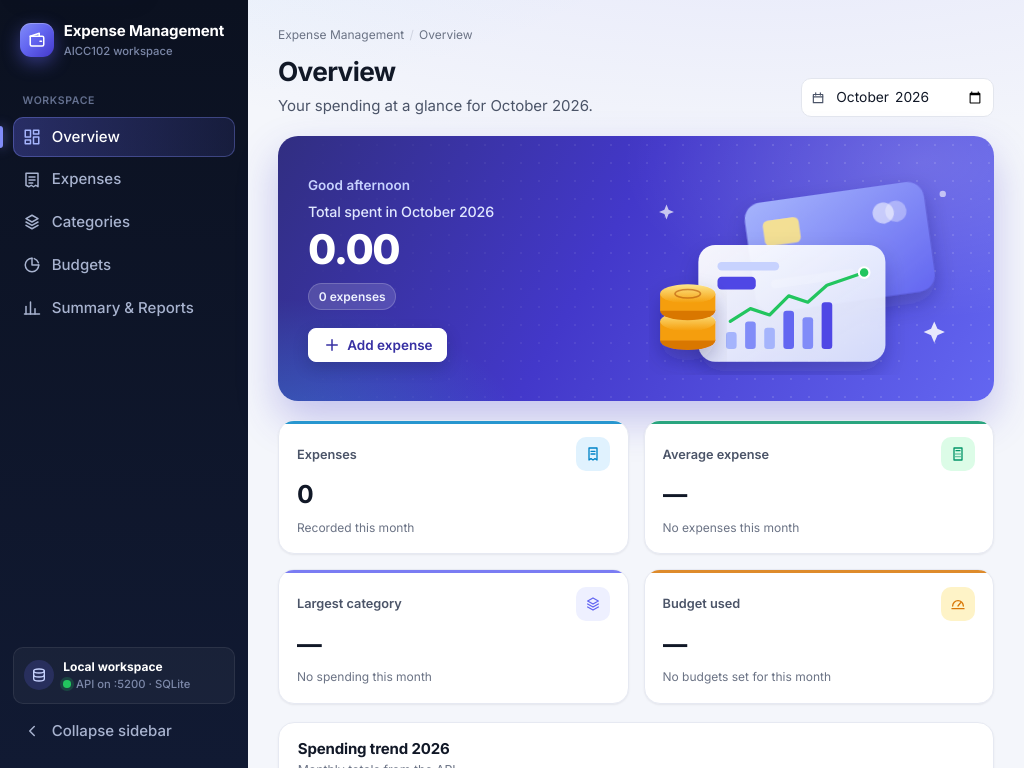
Test case: App › Overview "Add expense" → opens the Expenses page with the form drawer
The image size is (1024, 768).
What coordinates should you click on to do the following:
click the button "Add expense"
I would click on:
 (378, 345)
Its box is [308, 328, 447, 362].
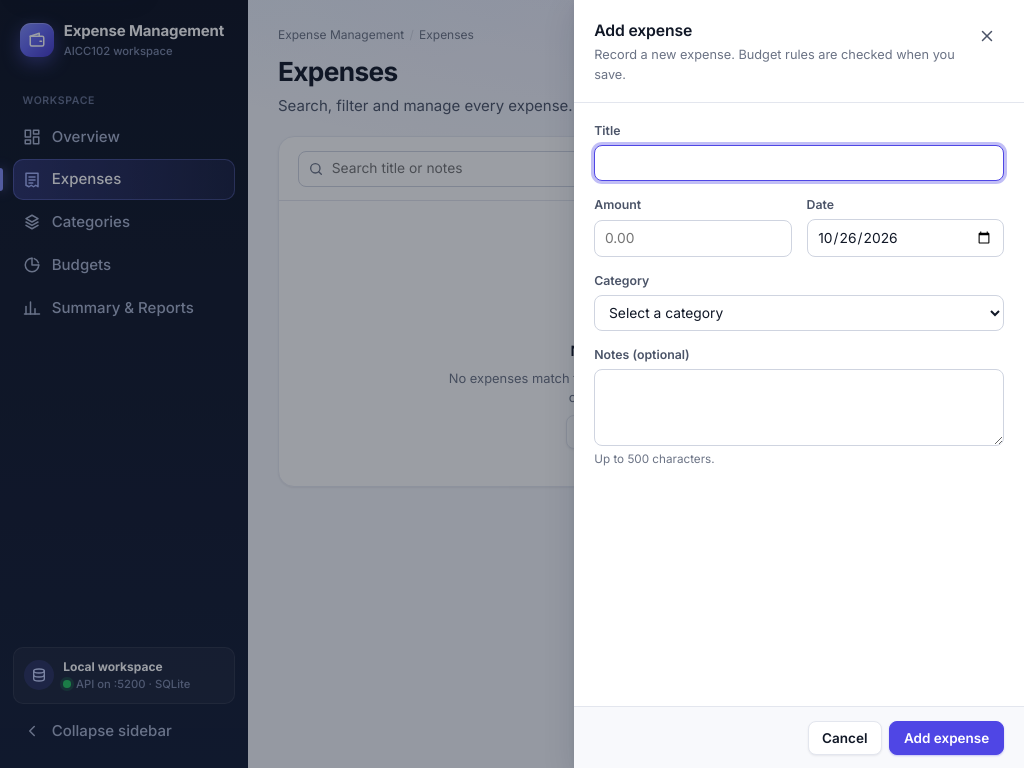
Now the heading "Expenses" is shown, box [278, 56, 398, 87]
Now the dialog "Add expense" is shown, box [574, 0, 1023, 767]
